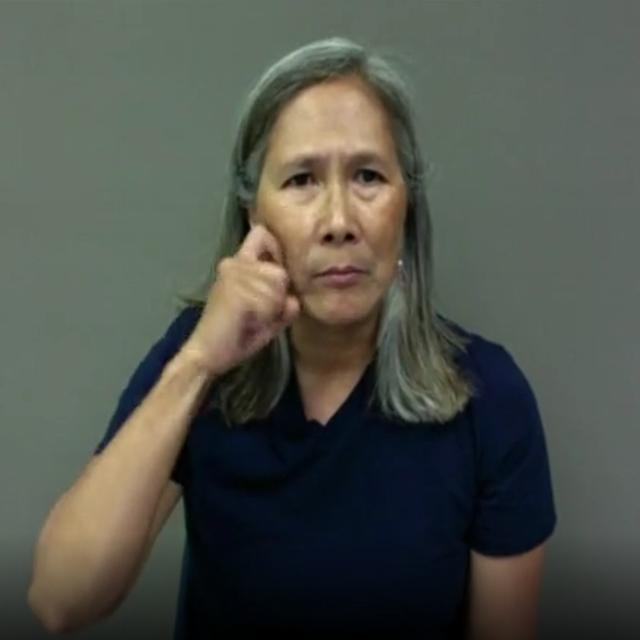apple: (192, 226, 299, 375)
